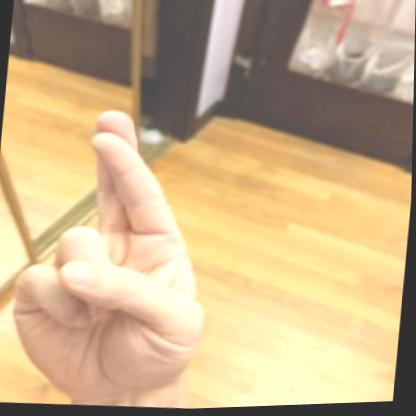R: (0, 97, 232, 416)
